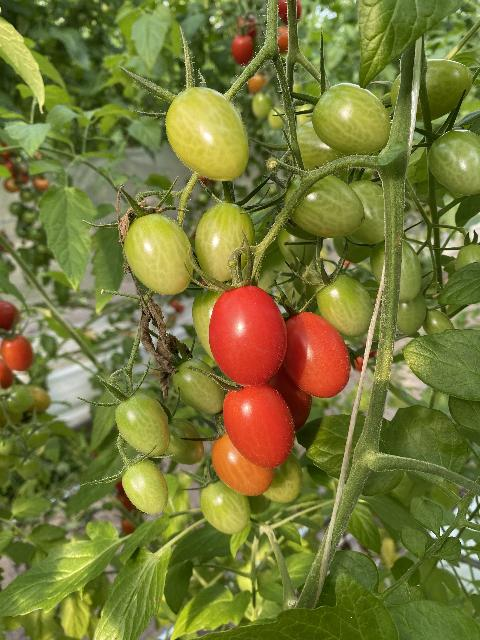l_fully_ripened: (209, 285, 288, 387), (223, 383, 297, 468), (281, 312, 352, 398), (266, 366, 313, 431)
l_green: (165, 86, 250, 181), (123, 213, 195, 295), (312, 83, 392, 154), (389, 58, 474, 123), (284, 170, 365, 238), (194, 200, 255, 283), (288, 119, 358, 176), (426, 128, 480, 197), (316, 274, 375, 337), (115, 391, 170, 457), (191, 282, 237, 359), (369, 237, 422, 302), (170, 358, 225, 414), (200, 478, 251, 535), (121, 456, 169, 515), (277, 217, 322, 274), (347, 180, 385, 246), (263, 449, 304, 503), (164, 417, 205, 465), (397, 288, 427, 337), (332, 234, 373, 263), (423, 309, 455, 334), (455, 244, 480, 271)
l_half_ripened: (212, 433, 275, 496)
